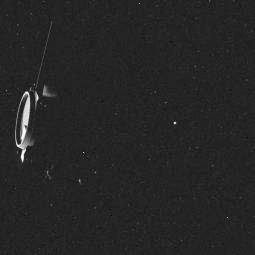proba_3_csc: (10, 22, 96, 185)
